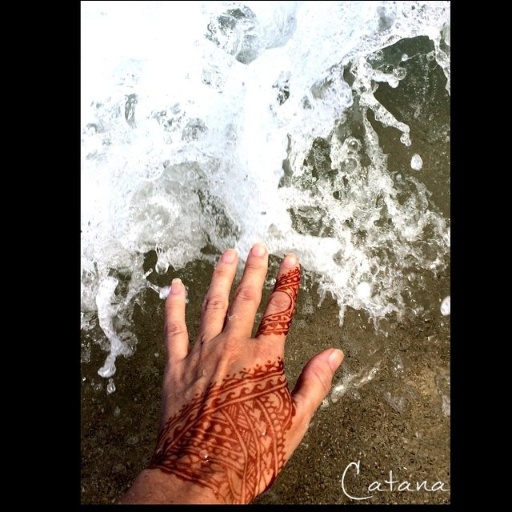hand: (152, 241, 345, 502)
